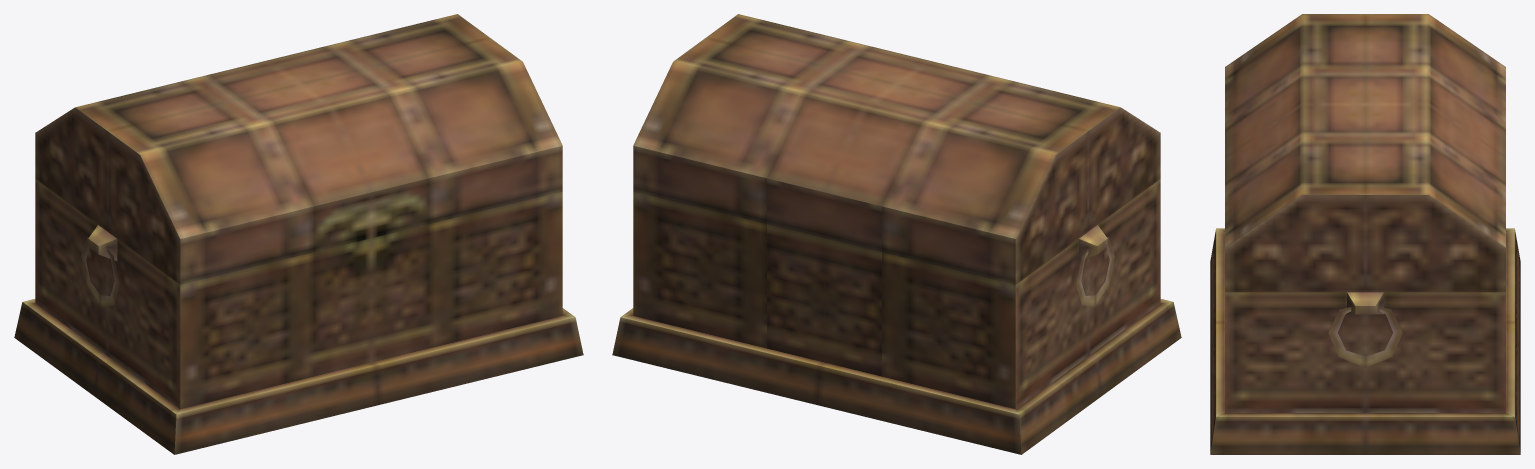
The model's file is mlzd_xiangz_01.FBX.
3 views of the same model, side by side, from view 1: azimuth 30°, elevation 25°; view 2: azimuth 150°, elevation 25°; view 3: azimuth 270°, elevation 25° (orthographic). The views are drawn at different scales.
Visible parts, largest first — view 1: mlzd_xiangz_01; view 2: mlzd_xiangz_01; view 3: mlzd_xiangz_01.
Boxes of the visible parts, x1,y1,x2,y2 form: mlzd_xiangz_01: (14, 14, 583, 454); mlzd_xiangz_01: (612, 14, 1181, 454); mlzd_xiangz_01: (1210, 14, 1520, 454).
Size of the model in its own units: 172 by 105 by 116.
